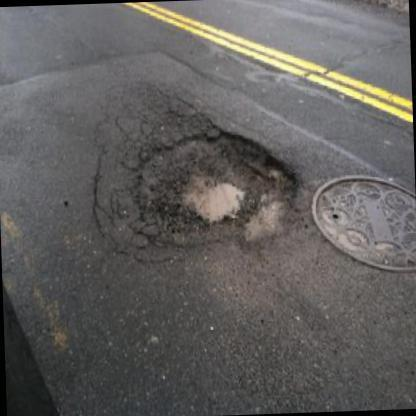pothole: (122, 125, 302, 246)
